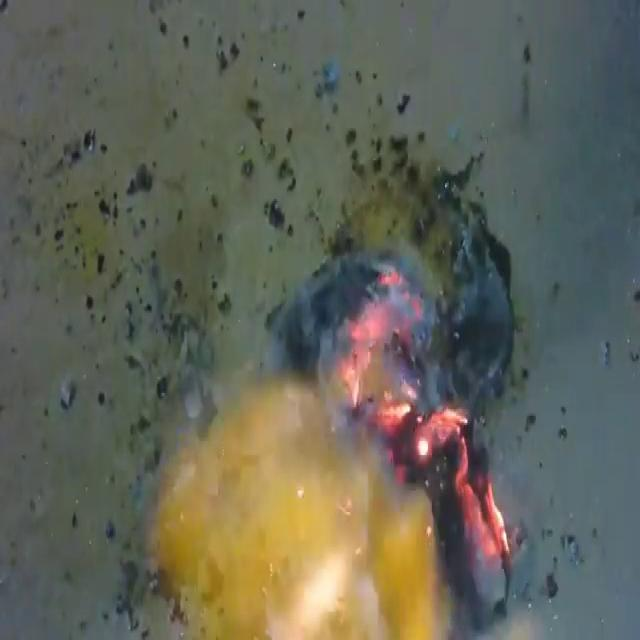Fire: (149, 258, 517, 636)
